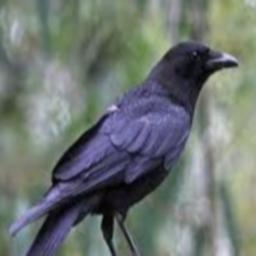Crow: (6, 40, 238, 256)
